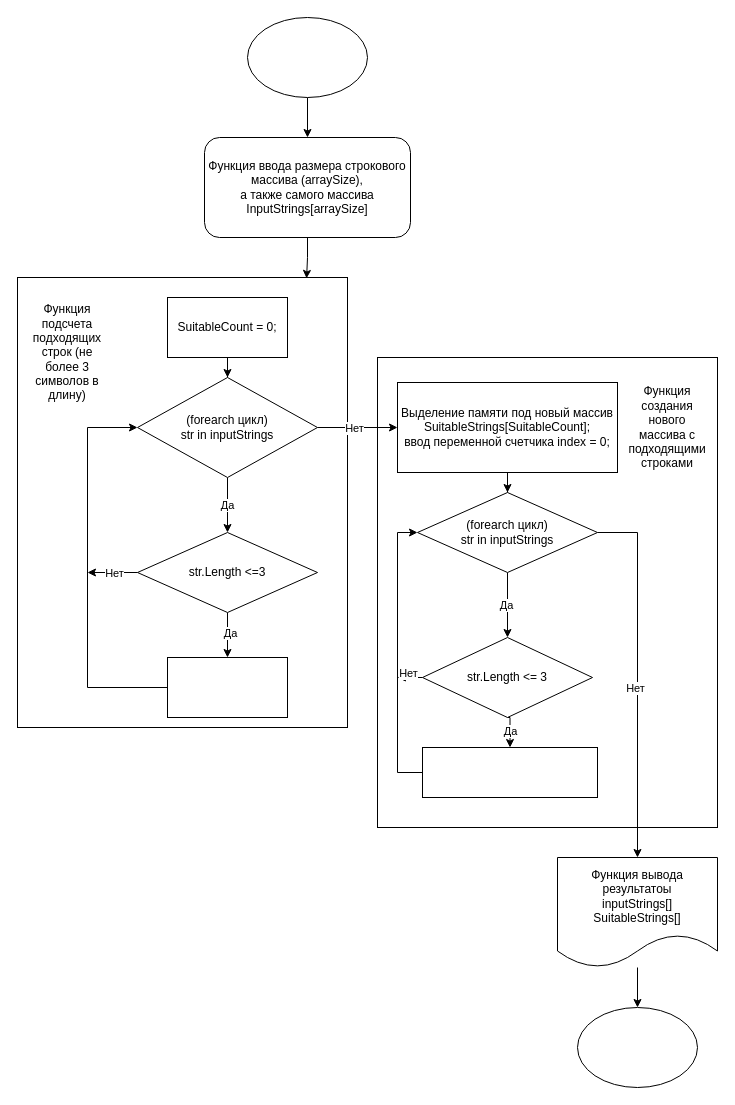
Some shapes in this 735 by 1105 pixel diagram are drawn without their labels. Each missing label, with the box of its shape:
SuitableCount++;: (166, 656, 288, 718)
SuitableStrings[index] = str; index++;: (422, 746, 598, 798)
Конец: (576, 1006, 698, 1088)
Начало: (246, 16, 368, 98)
